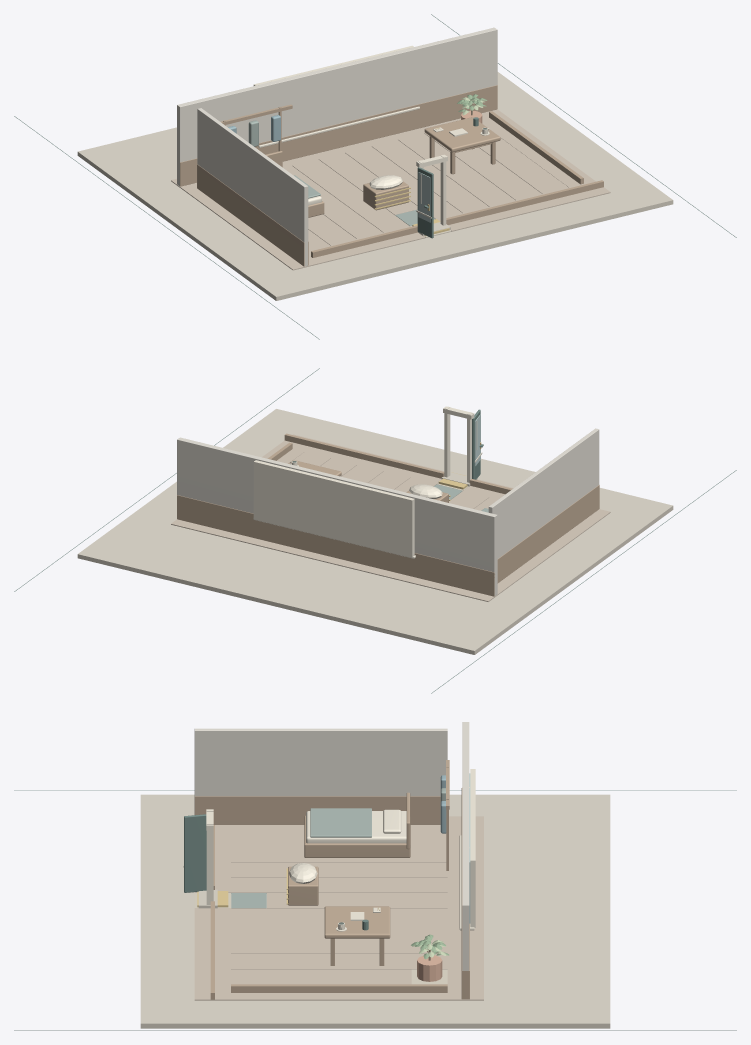
The model's file is room.glb.
The picture shows the model from 3 angles, top to bottom: view 1: azimuth 30°, elevation 25°; view 2: azimuth 150°, elevation 25°; view 3: azimuth 270°, elevation 25°; orthographic projection. The views are drawn at different scales.
Visible parts, largest first — view 1: Campaign_stone, Campaign_plaster, Campaign_floor, Campaign_wood, Campaign_cream, Campaign_metal, Campaign_cloth, Campaign_glass; view 2: Campaign_stone, Campaign_plaster, Campaign_wood, Campaign_cream, Campaign_floor, Campaign_metal; view 3: Campaign_stone, Campaign_floor, Campaign_plaster, Campaign_wood, Campaign_cream, Campaign_metal, Campaign_cloth, Campaign_terra.
Part boxes in pixels (bbox=[...]): Campaign_stone: bbox=[77, 72, 673, 300]; Campaign_plaster: bbox=[177, 27, 497, 266]; Campaign_floor: bbox=[171, 109, 610, 270]; Campaign_wood: bbox=[180, 85, 603, 266]; Campaign_cream: bbox=[253, 45, 489, 225]; Campaign_metal: bbox=[14, 14, 736, 339]; Campaign_cloth: bbox=[248, 120, 435, 225]; Campaign_glass: bbox=[418, 172, 430, 222]; Campaign_stone: bbox=[77, 409, 673, 654]; Campaign_plaster: bbox=[177, 428, 599, 595]; Campaign_wood: bbox=[177, 433, 599, 596]; Campaign_cream: bbox=[253, 406, 482, 558]; Campaign_floor: bbox=[171, 434, 610, 601]; Campaign_metal: bbox=[14, 368, 736, 693]; Campaign_stone: bbox=[140, 794, 610, 1028]; Campaign_floor: bbox=[194, 816, 483, 1000]; Campaign_plaster: bbox=[194, 722, 469, 970]; Campaign_wood: bbox=[194, 760, 469, 999]; Campaign_cream: bbox=[183, 769, 475, 931]; Campaign_metal: bbox=[14, 790, 736, 1030]; Campaign_cloth: bbox=[231, 788, 445, 908]; Campaign_terra: bbox=[417, 955, 442, 981].
Size of what is drawn, in the model's own units: 12.62 by 2.45 by 16.
